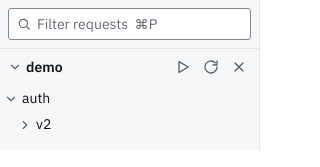
Scenario: folder context menu › right_click_folder_opens_menu
Right-click the list item "v2" at (35, 124), box [18,115,51,133]
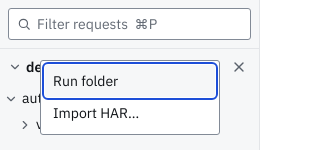
Expected: the menu items read "Run folder", "Import HAR…", in this order
Expected: the menu item "Run folder" is shown
Click the menu item "Run folder" at (130, 81), box [45,65,215,97]
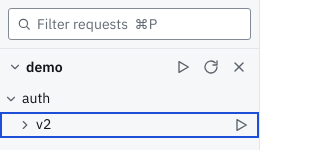
Expected: the menu is gone
